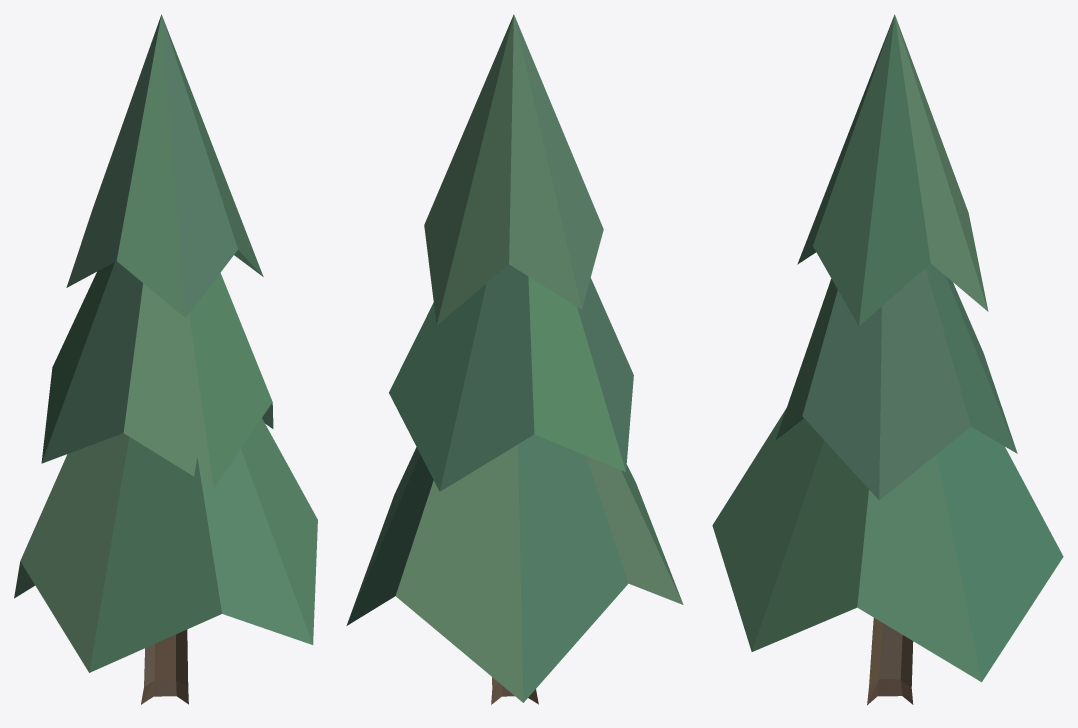
File: Tree_Pine_01.glb
The picture shows the model from 3 angles, left to right: view 1: azimuth 30°, elevation 25°; view 2: azimuth 150°, elevation 25°; view 3: azimuth 270°, elevation 25°; orthographic projection.
Parts seen in each view (by area): view 1: Tree_Pine_01; view 2: Tree_Pine_01; view 3: Tree_Pine_01.
Part boxes in pixels (left/top/right/bottom): Tree_Pine_01: left=14, top=14, right=317, bottom=704; Tree_Pine_01: left=346, top=14, right=683, bottom=704; Tree_Pine_01: left=712, top=14, right=1063, bottom=705.
Bounding box in the file's own units: 4.76 × 11.81 × 5.44.
